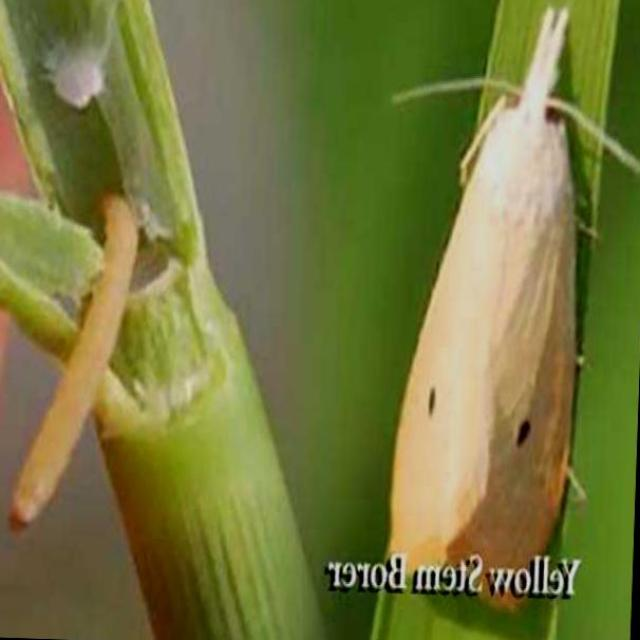stem borer: (389, 7, 640, 607), (13, 195, 135, 522)
